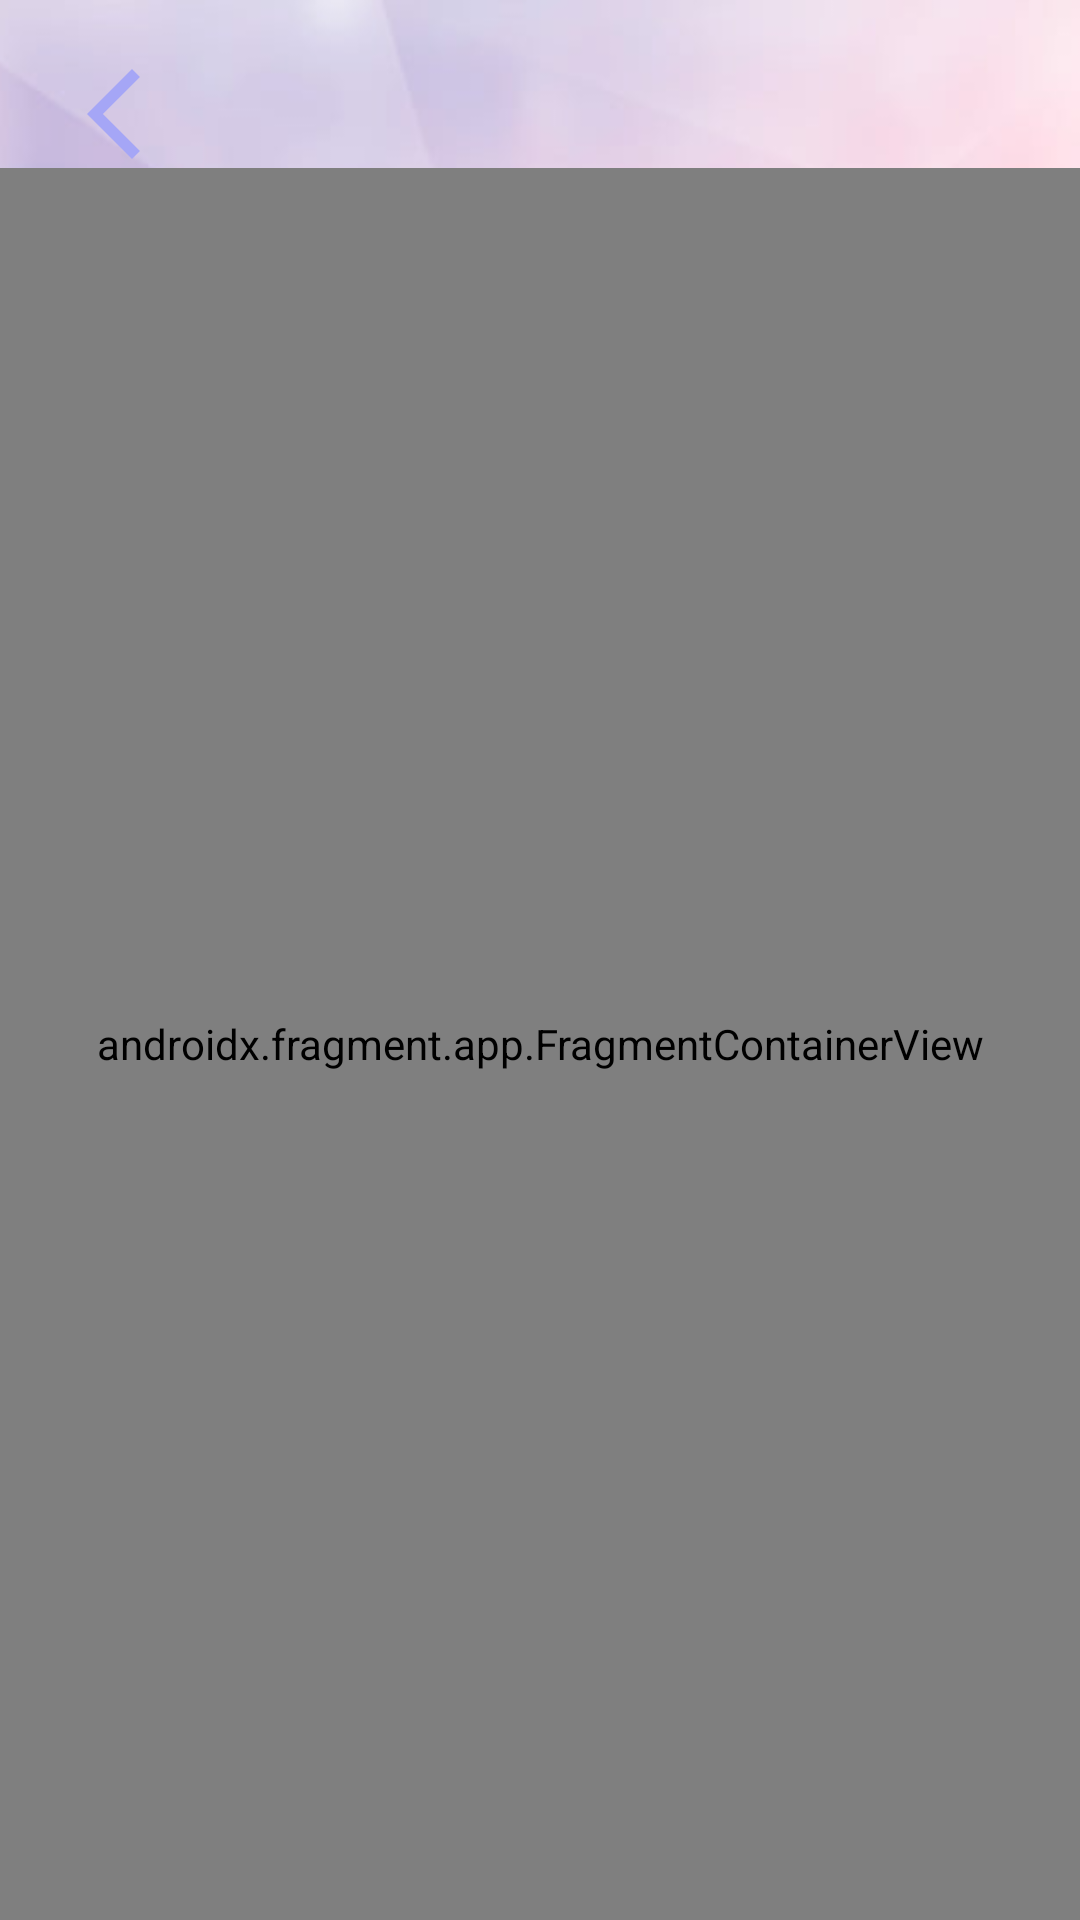

Icons on this 1080px×1920px Android screen, each with its box as rect(x1, y1, x2, y2):
back: rect(87, 70, 139, 159)
